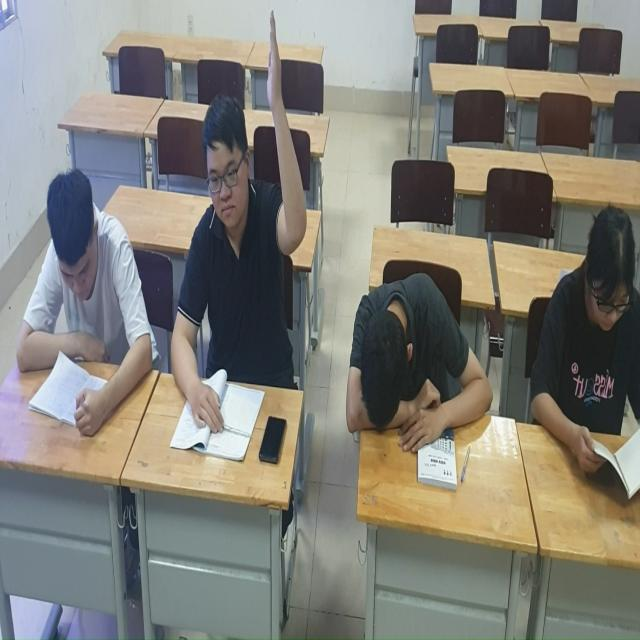raise_hand: (168, 8, 308, 438)
read: (7, 156, 156, 438), (514, 204, 640, 502)
sleep: (346, 269, 503, 468)
